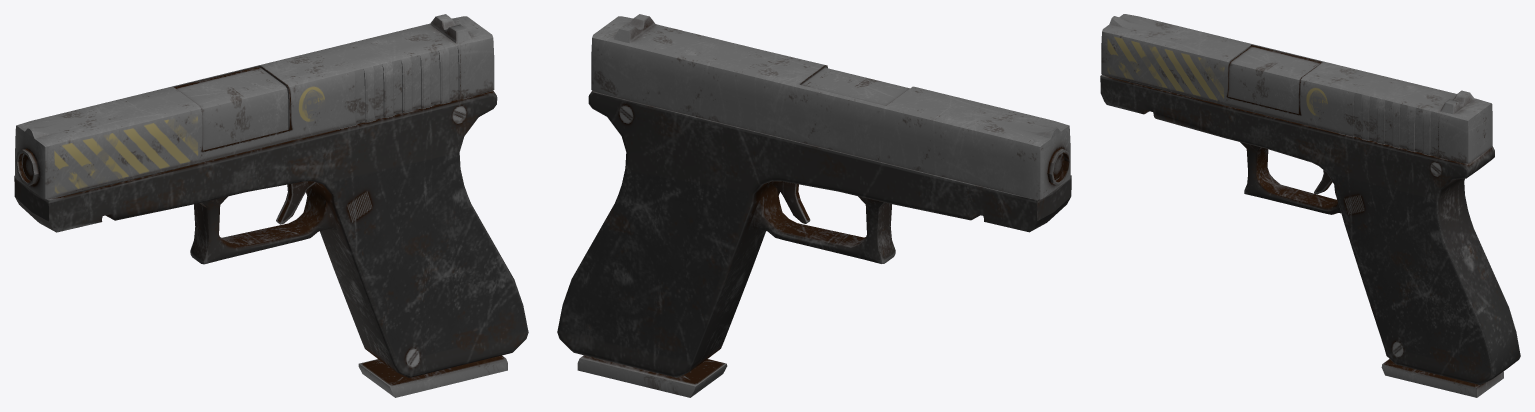
Rendered from Glock.fbx.
3 renders of one model, left to right at view 1: azimuth 30°, elevation 25°; view 2: azimuth 150°, elevation 25°; view 3: azimuth 330°, elevation 25°, orthographic. The views are drawn at different scales.
Parts seen in each view (by area): view 1: Glock; view 2: Glock; view 3: Glock.
Boxes of the visible parts, bbox=[...] form: Glock: bbox=[14, 14, 528, 397]; Glock: bbox=[557, 14, 1071, 397]; Glock: bbox=[1100, 14, 1520, 397].
Size of the model in its own units: 8.79 by 1.13 by 5.95.
Materials: 1 (1 with a texture image).
